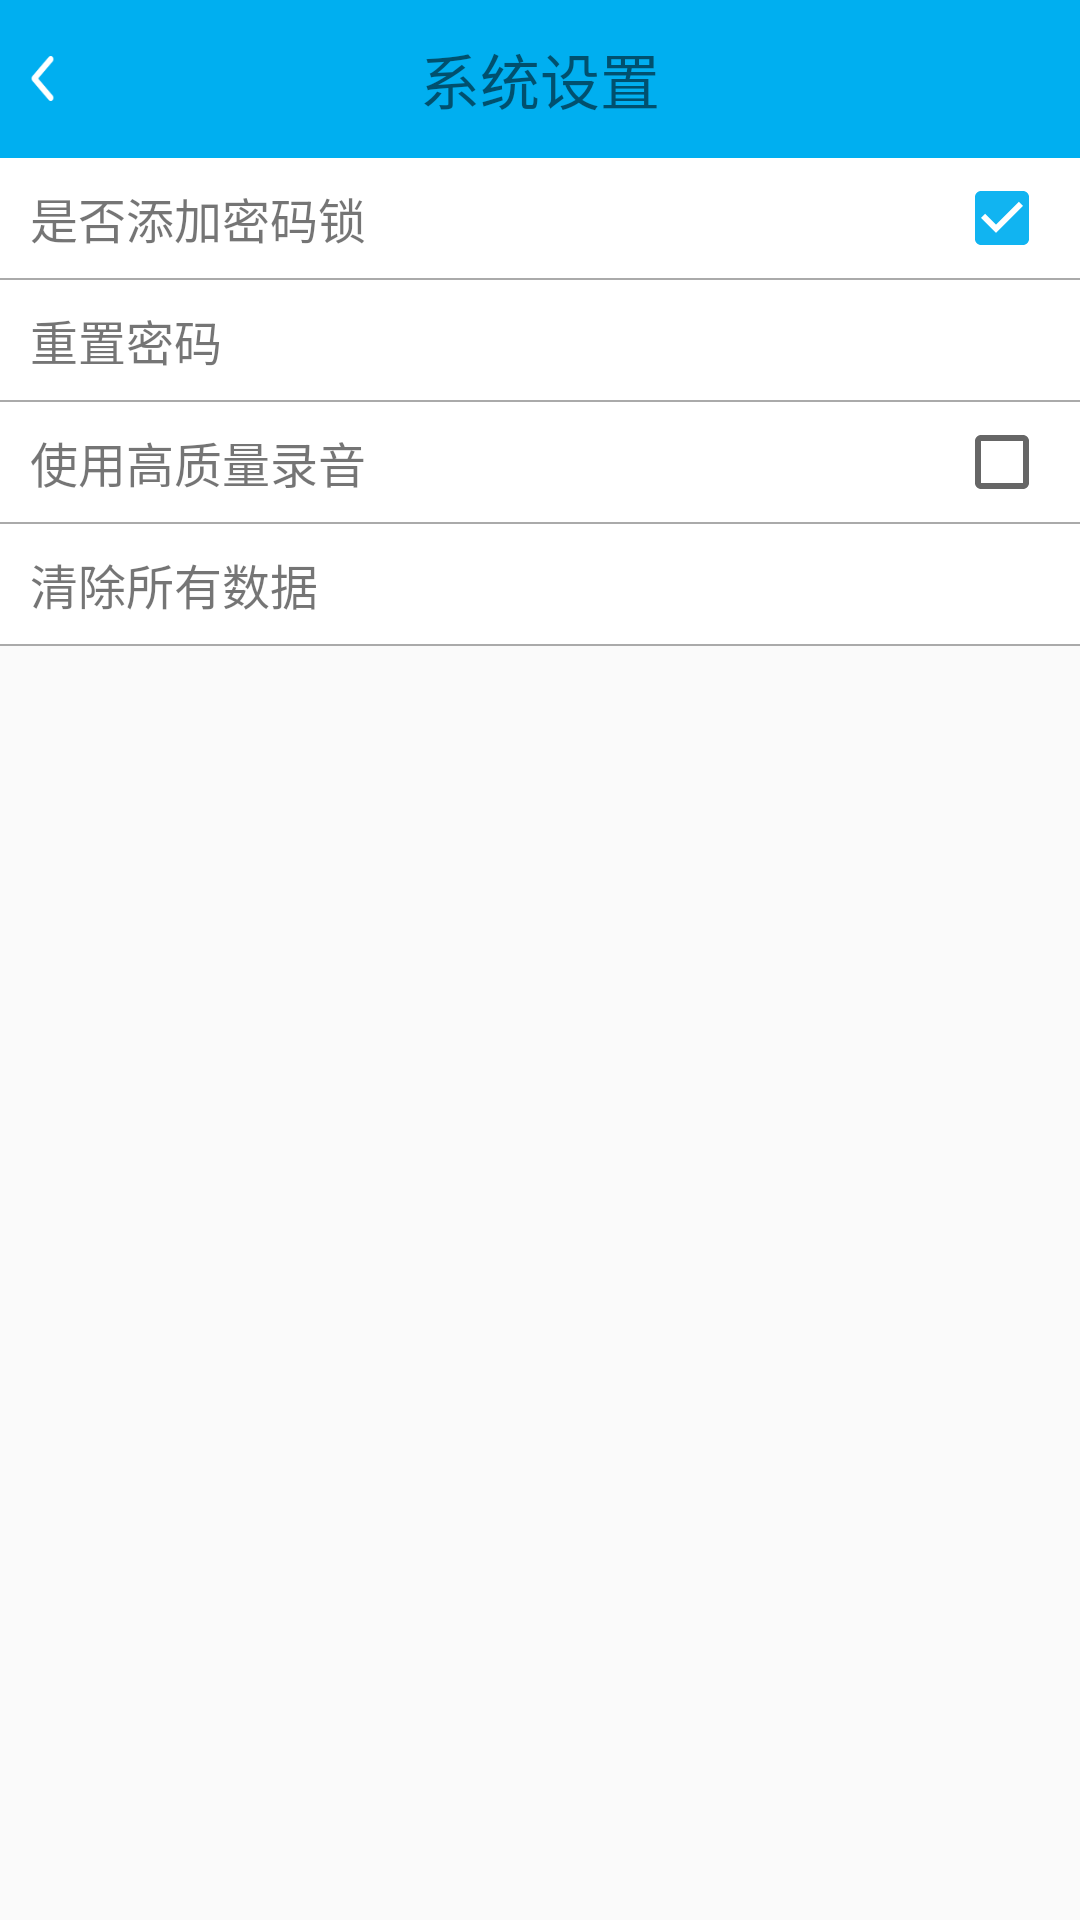

Where icons sit on this 1080w x 1920h app screen, as (x1, y1, x2, y2):
return iv: (31, 56, 54, 101)
